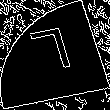L_S: (30, 27, 80, 83)
